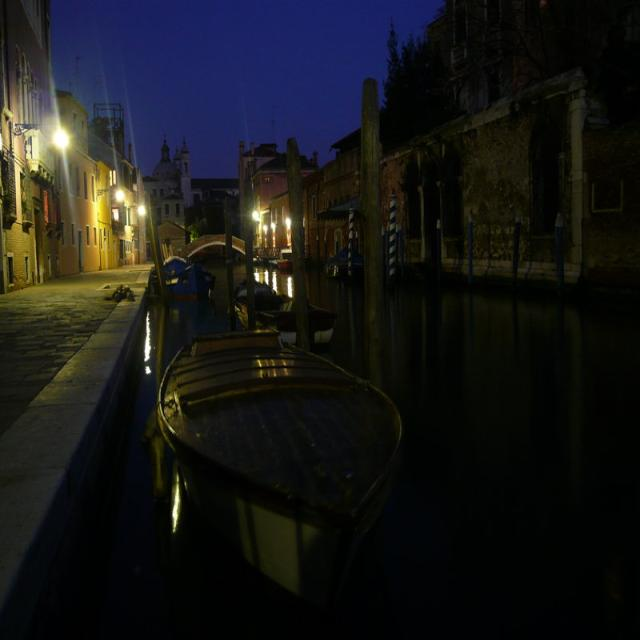Boat: (147, 282, 402, 616), (158, 212, 344, 328)
